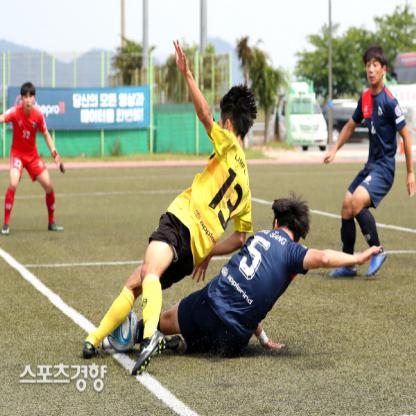Fall_Down: (82, 39, 258, 379)
